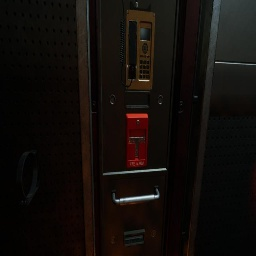EmergencyPhone ,: (120, 0, 155, 90)
FireAlarm ,: (125, 114, 148, 168)
